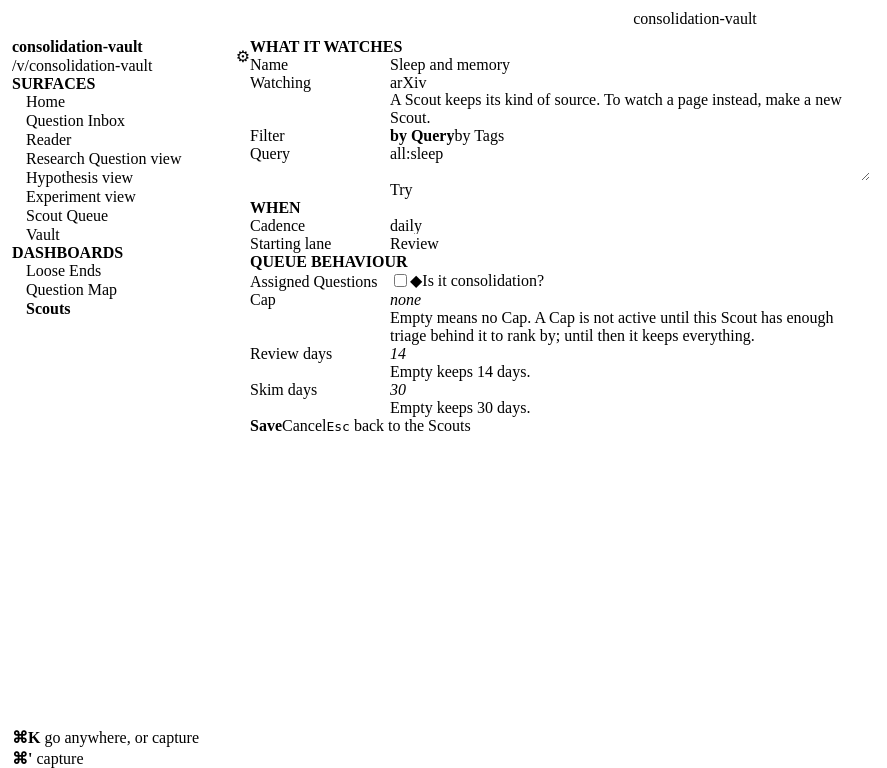
Test: a refused Save › says it on an edit too, with the edit's typing kept
Expected: the form named "Edit Sleep and memory" is shown, x1=250 y1=38 x2=870 y2=435
Replace the text in the text box labelled "Query" with "all:sleep AND all:rem" at x=630, y=163, box x1=390 y1=145 x2=870 y2=181
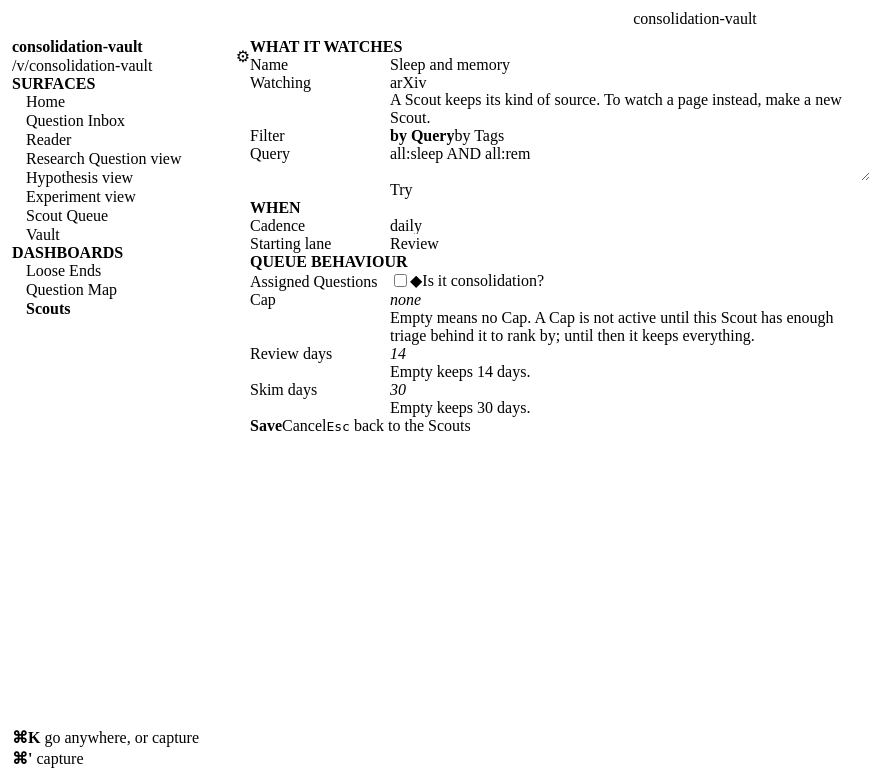
Click the button "Save" at x=266, y=426, box x1=250 y1=417 x2=282 y2=435
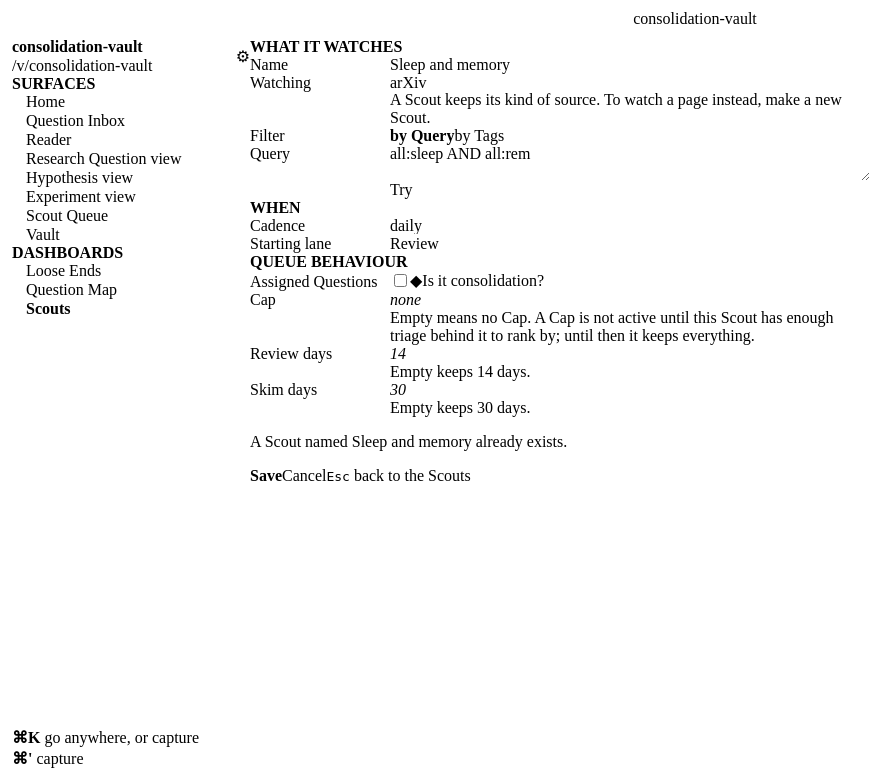
Result: the message reads "A Scout named Sleep and memory already exists." at x1=250 y1=433 x2=567 y2=450
